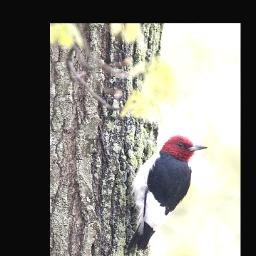Woodpecker: (129, 135, 208, 252)
